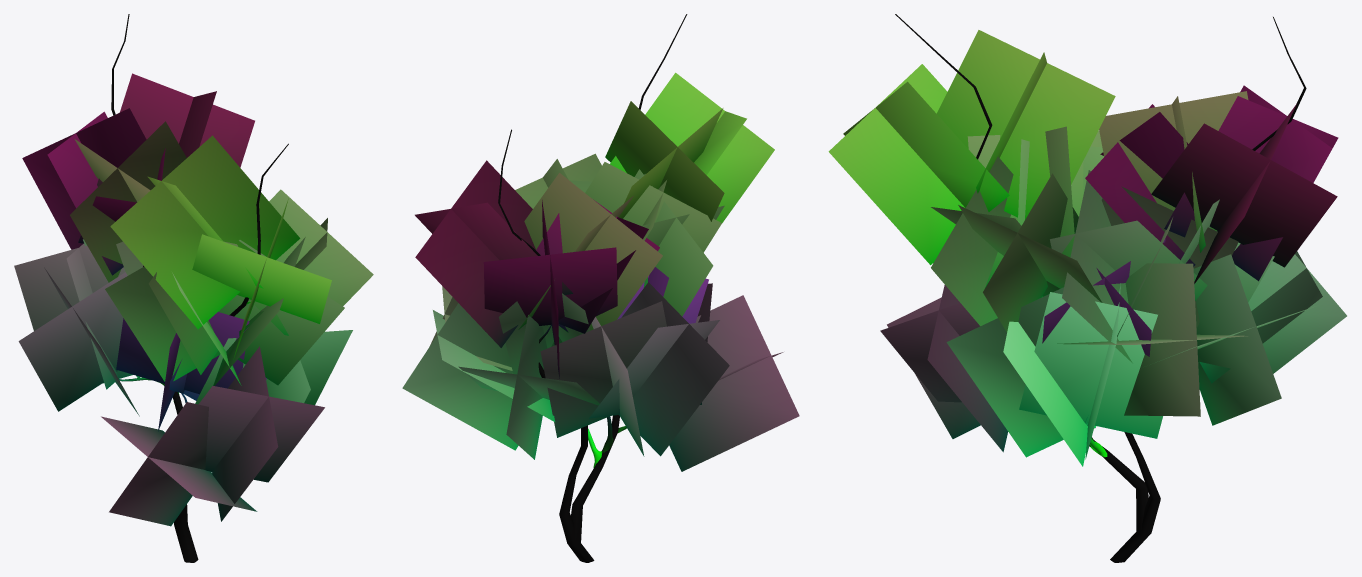
Rendered from M_P12_Tree_15.fbx.
3 views of the same model, side by side, from view 1: azimuth 30°, elevation 25°; view 2: azimuth 150°, elevation 25°; view 3: azimuth 270°, elevation 25° (orthographic). The views are drawn at different scales.
Parts seen in each view (by area): view 1: Tree_15; view 2: Tree_15; view 3: Tree_15.
Part boxes in pixels (x1,y1,x2,y2): Tree_15: (14, 14, 373, 562); Tree_15: (402, 14, 799, 562); Tree_15: (828, 14, 1346, 562).
Size of the model in its own units: 171 by 266 by 229.
